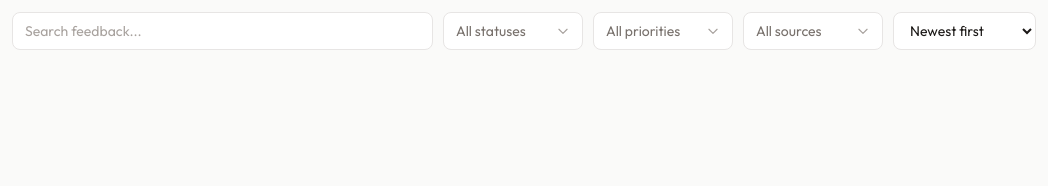
Test: FeedbackFilterBar › opens multiselect dropdown on click and toggles option
The image size is (1048, 186).
Click the button with aria-label "Filter by status": (513, 31) [443, 12, 583, 50]
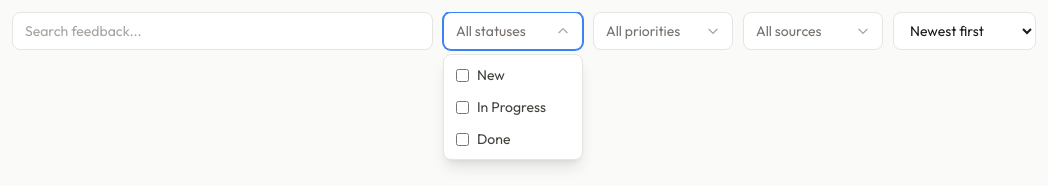
Check: the checkbox labelled "New" is shown
Click the checkbox labelled "New": (462, 75) [456, 68, 469, 82]
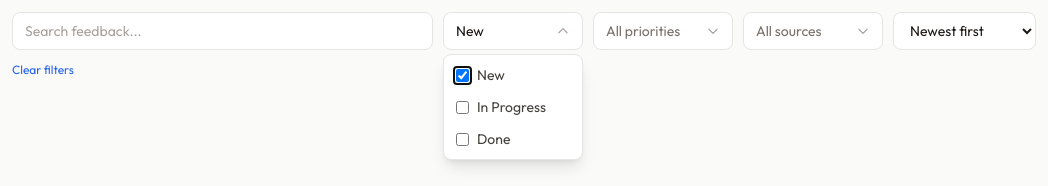
Check: the button "Clear filters" is shown, box [12, 62, 74, 78]
